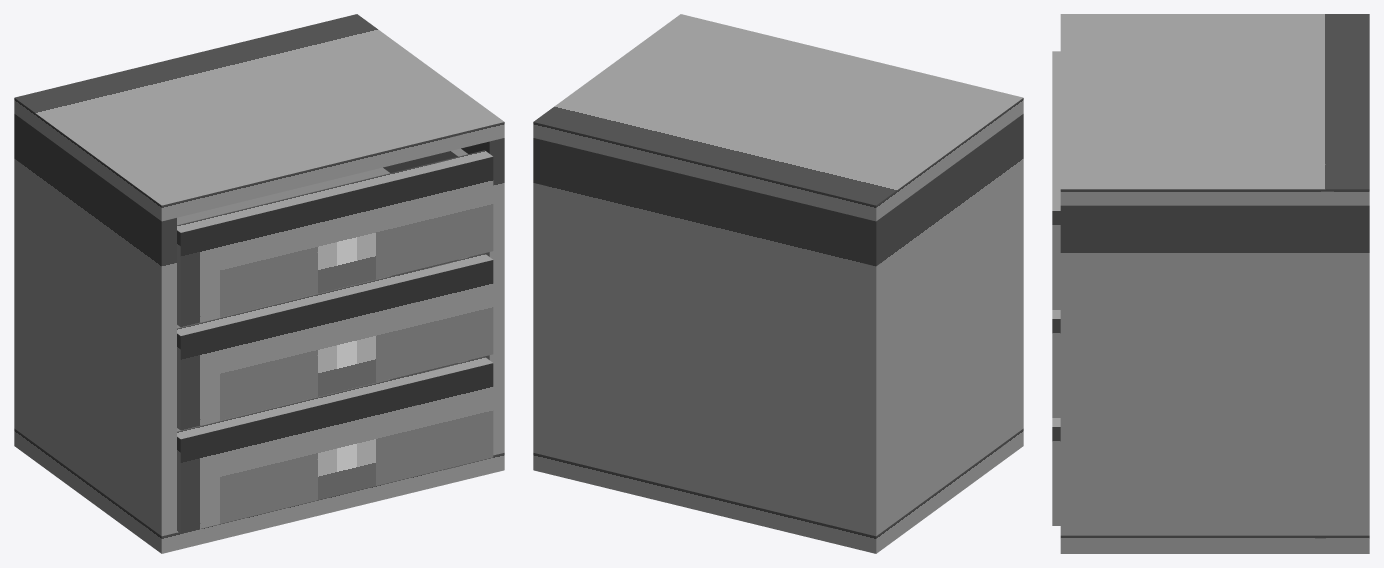
The model's file is drawer_cabinet.glb.
The picture shows the model from 3 angles, left to right: view 1: azimuth 30°, elevation 25°; view 2: azimuth 150°, elevation 25°; view 3: azimuth 270°, elevation 25°; orthographic projection. The views are drawn at different scales.
Parts seen in each view (by area): view 1: Cabinet_Shell, Drawer_3, Drawer_2, Drawer_1; view 2: Cabinet_Shell; view 3: Cabinet_Shell, Drawer_3, Drawer_1, Drawer_2.
Part boxes in pixels (x1,y1,x2,y2): Cabinet_Shell: (14,14,504,553); Drawer_3: (177,148,493,327); Drawer_2: (177,253,493,430); Drawer_1: (177,356,493,533); Cabinet_Shell: (533,14,1023,553); Cabinet_Shell: (1060,14,1369,553); Drawer_3: (1052,51,1060,309); Drawer_1: (1052,418,1060,525); Drawer_2: (1052,310,1060,417).
Bounding box in the file's own units: 1.02 × 0.99 × 0.78.
Materials: 1 (1 with a texture image).
